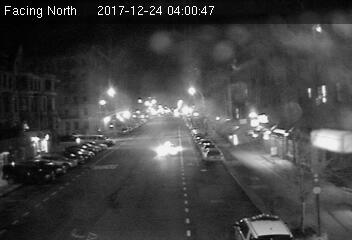car: (152, 139, 182, 160), (200, 147, 224, 163)
police: (233, 210, 295, 240)
